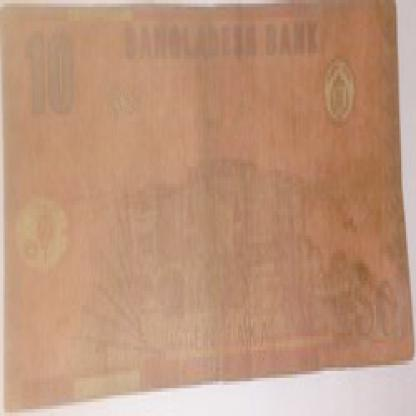Ten Taka: (23, 24, 83, 122), (354, 270, 404, 354)
